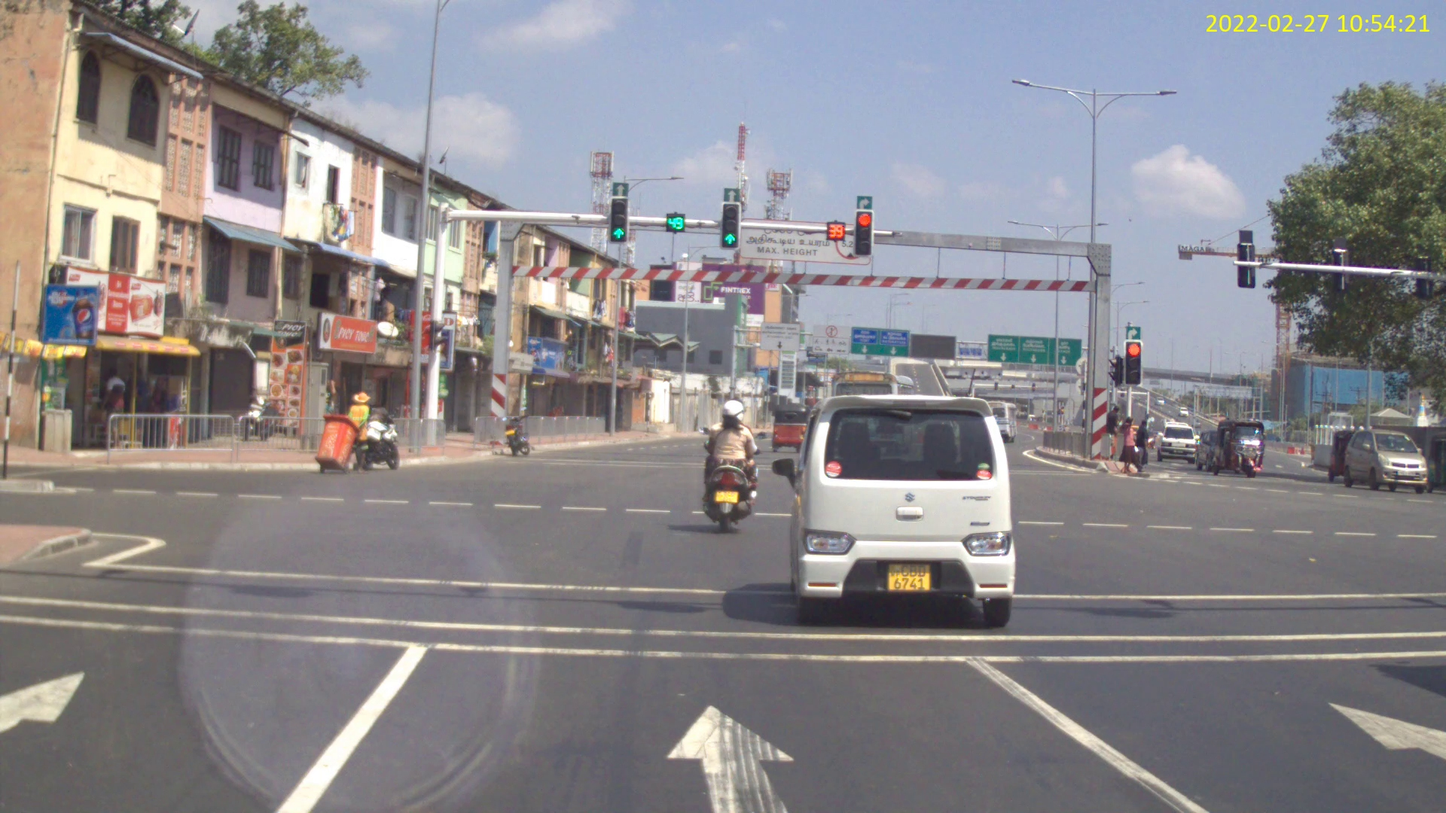Count-down: (826, 221, 845, 240), (667, 214, 685, 232)
Green-up: (720, 202, 740, 250), (609, 196, 628, 244)
Red: (853, 209, 874, 257), (1124, 339, 1142, 386)
